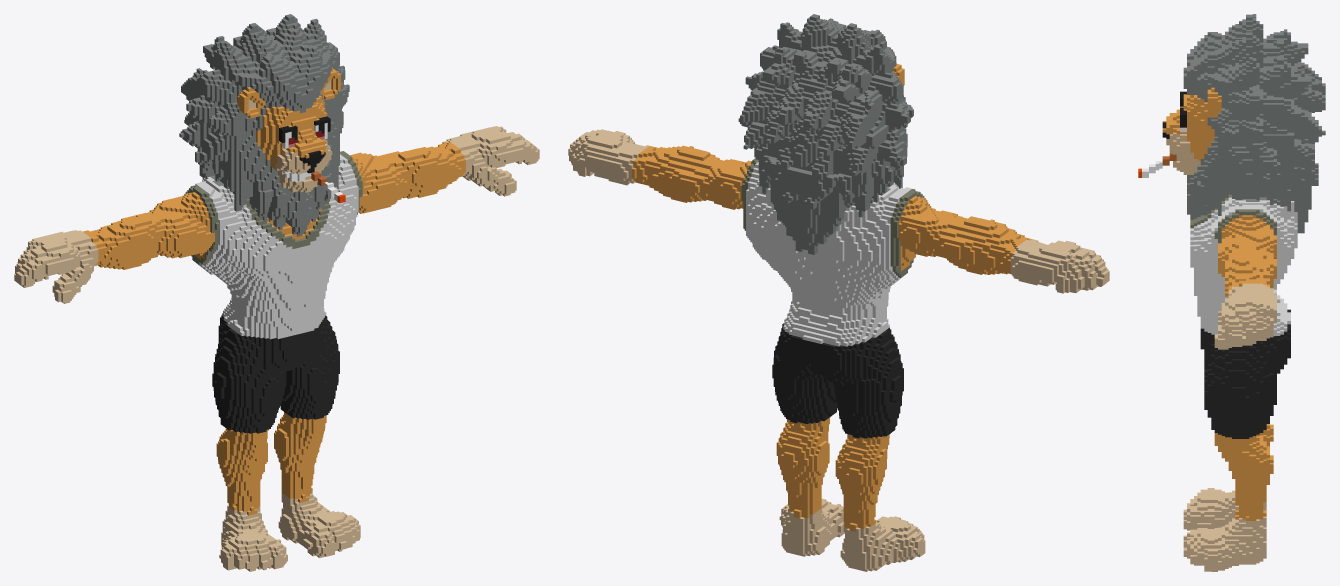
The model's file is 438-BIrnO7ZB.glb.
The picture shows the model from 3 angles, left to right: view 1: azimuth 30°, elevation 25°; view 2: azimuth 150°, elevation 25°; view 3: azimuth 270°, elevation 25°; orthographic projection. The views are drawn at different scales.
Parts seen in each view (by area): view 1: cigarette; view 2: cigarette; view 3: cigarette.
Part boxes in pixels (x1=…): cigarette: x1=14, y1=14, x2=539, y2=571; cigarette: x1=568, y1=14, x2=1109, y2=571; cigarette: x1=1138, y1=14, x2=1325, y2=571.
Size of the model in its own units: 17.2 by 16.5 by 5.4.
Materials: 5 (5 with a texture image).
